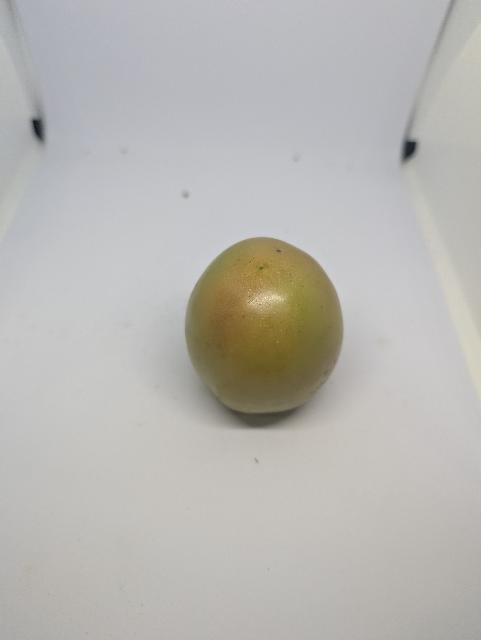breaker: (181, 234, 351, 423)
